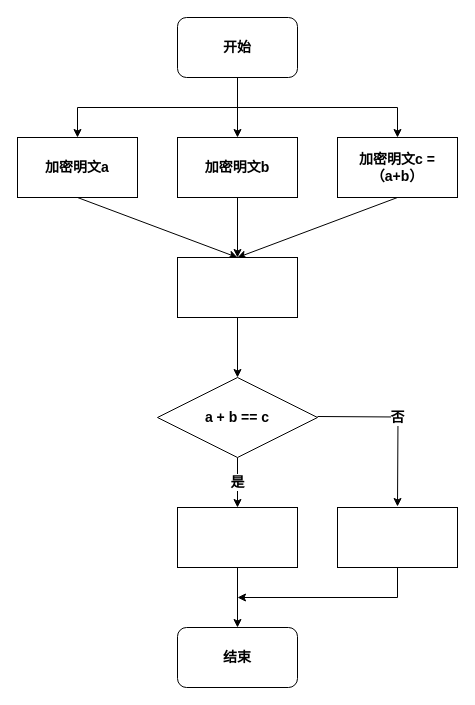
Image size: 475x705. Some labels were removed from this diagram. The centre of each missing label's shape, as x and y in pixels:
不满足加法同态性: (397,537)
满足加法同态性: (237,537)
解密: (237,287)
